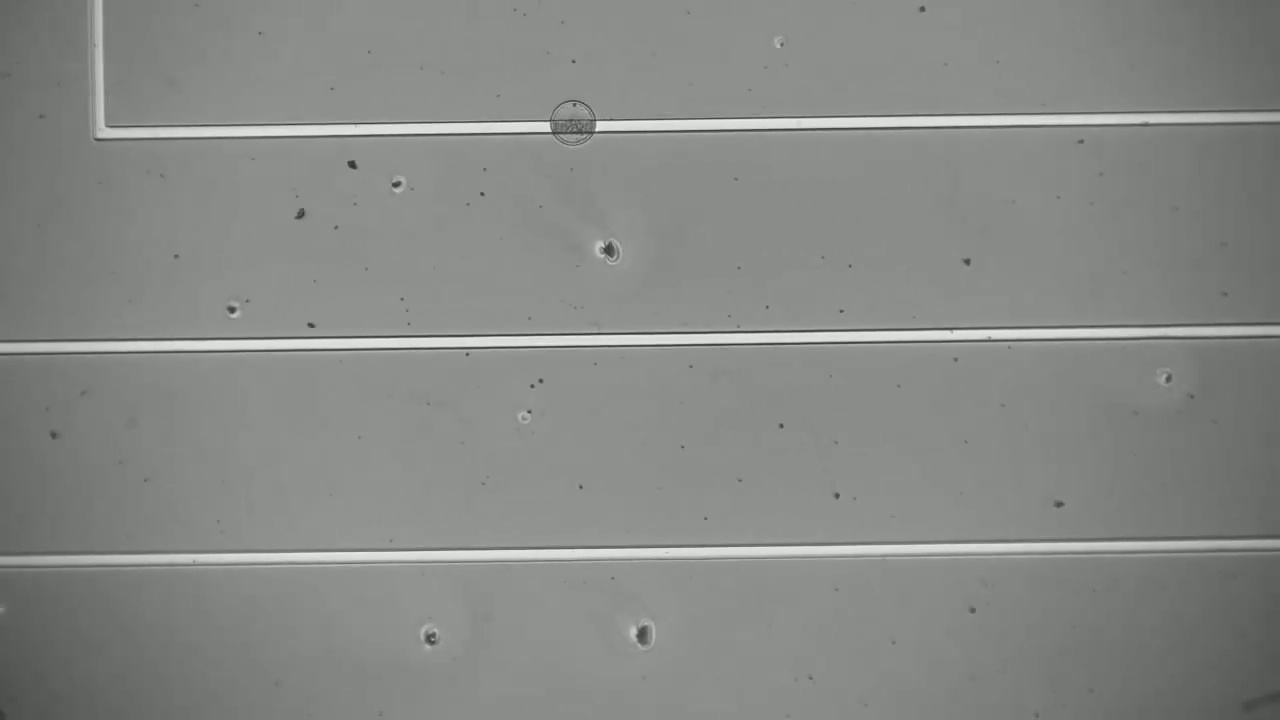gray_line: (537, 111, 610, 144)
